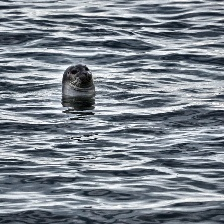seal: (61, 64, 96, 109)
